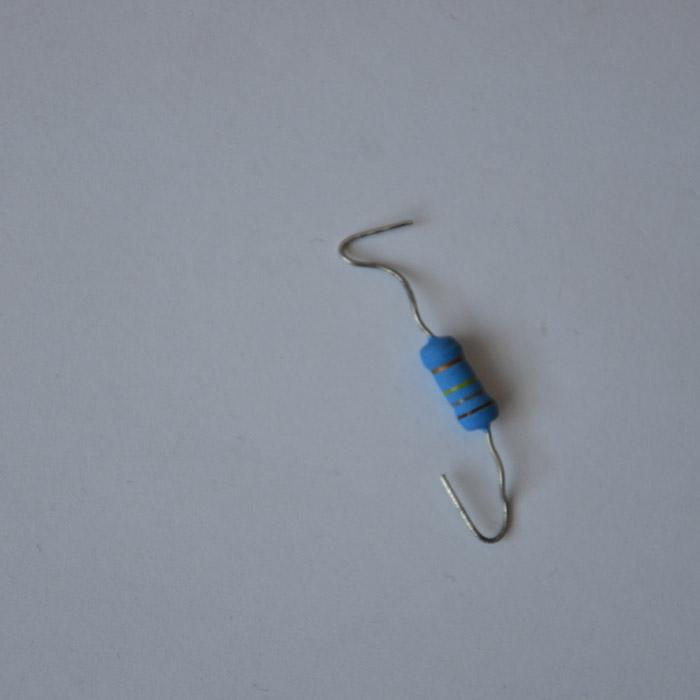resistor: (418, 333, 497, 434)
